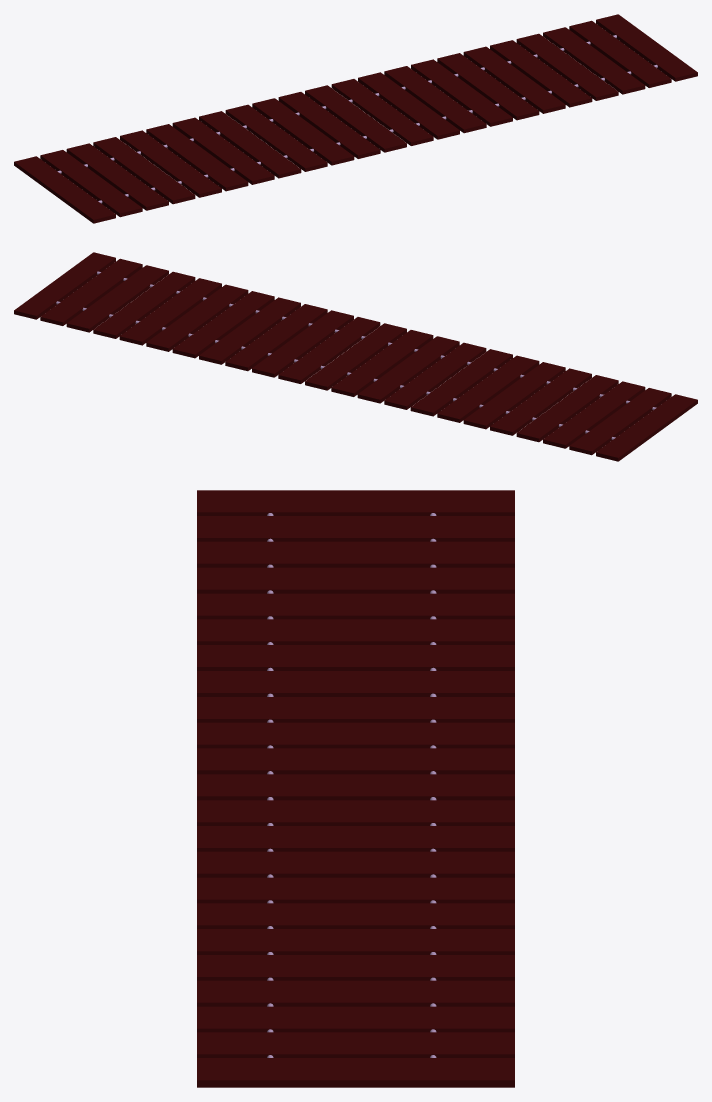
Rendered from BridgeSpecial.fbx.
3 views of the same model, one above another, from view 1: azimuth 30°, elevation 25°; view 2: azimuth 150°, elevation 25°; view 3: azimuth 270°, elevation 25° (orthographic). The views are drawn at different scales.
Parts seen in each view (by area): view 1: Cube; view 2: Cube; view 3: Cube.
Part boxes in pixels (x1,y1,x2,y2): Cube: [14, 14, 697, 223]; Cube: [14, 252, 697, 461]; Cube: [197, 490, 514, 1087].
Bounding box in the file's own units: 343 × 2.05 × 78.12.
